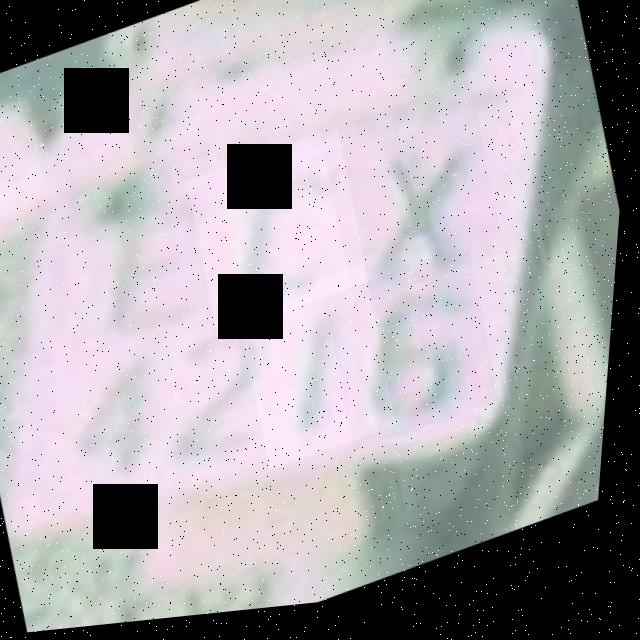0: (27, 456, 250, 635), (29, 572, 148, 635)
1: (233, 267, 412, 480)
2: (114, 291, 318, 509)
6: (319, 252, 516, 464)
B: (27, 139, 258, 381)
C: (180, 130, 382, 345)
N: (25, 316, 211, 527)
X: (311, 84, 520, 318)
